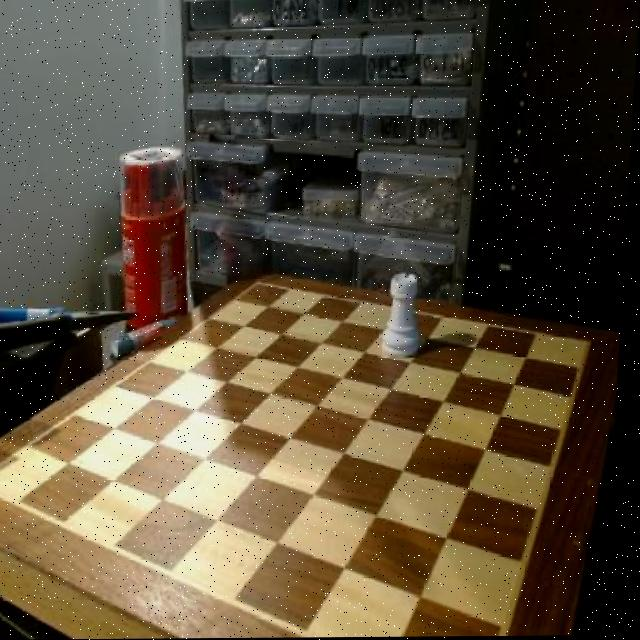white-queen: (375, 265, 427, 365)
